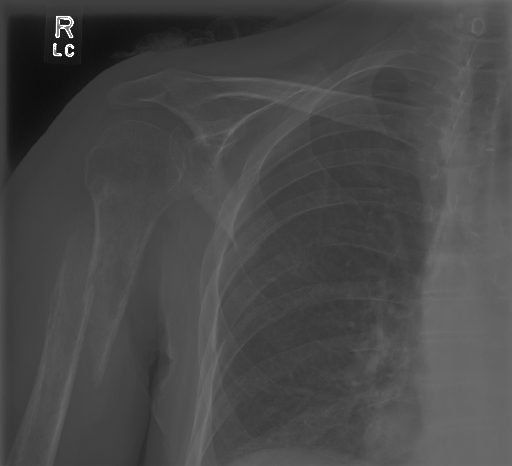fracture: (43, 204, 118, 398)
